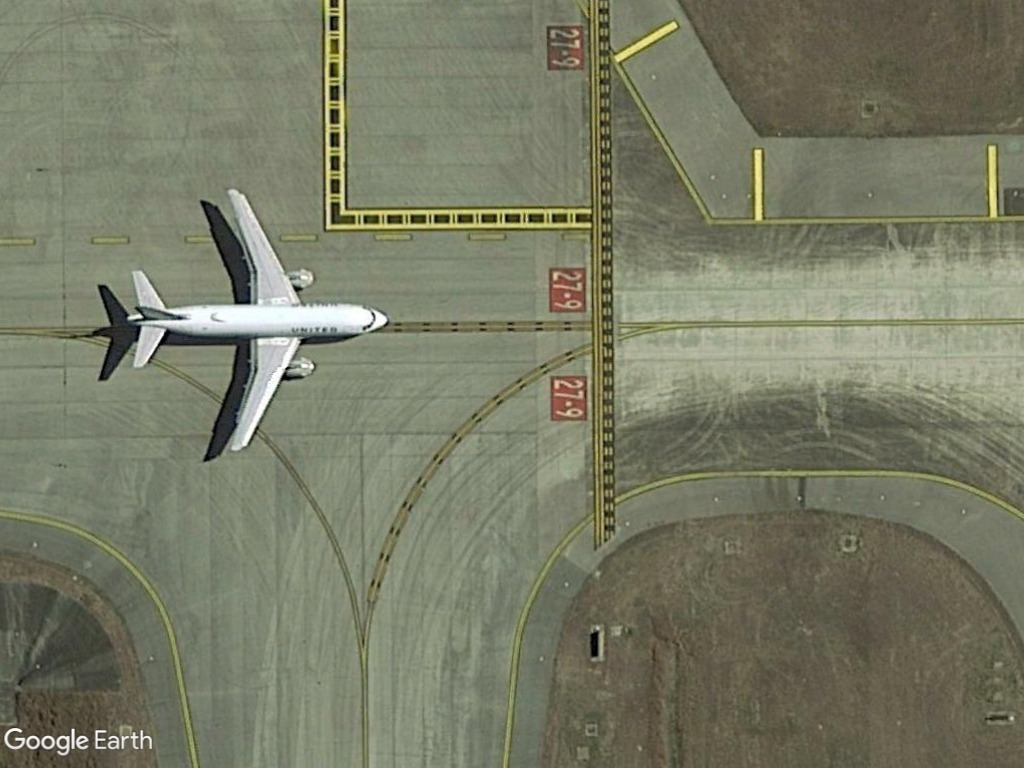airliner: (118, 183, 396, 466)
